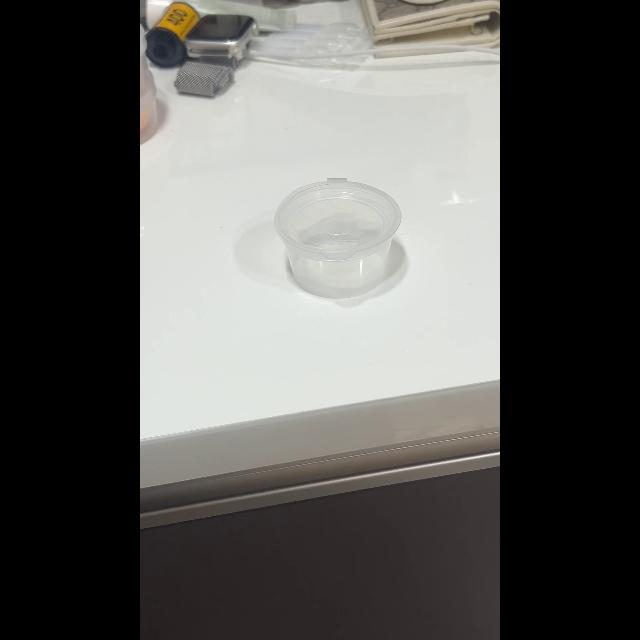clean: (268, 170, 409, 306)
